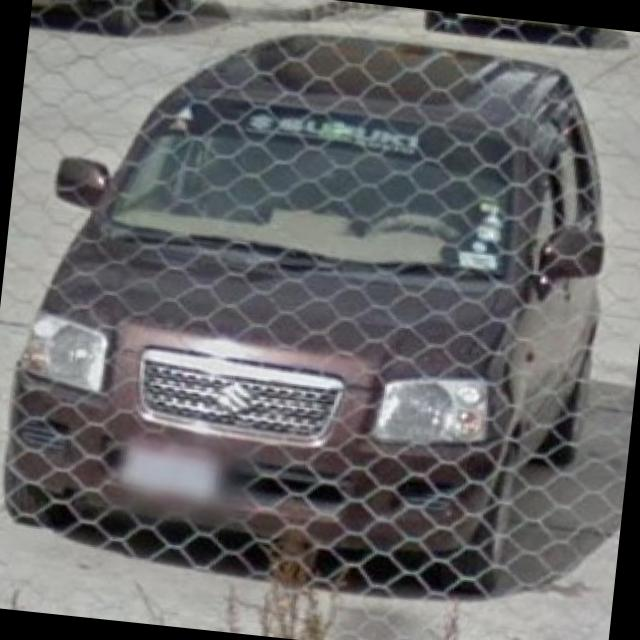car: (0, 15, 626, 598)
